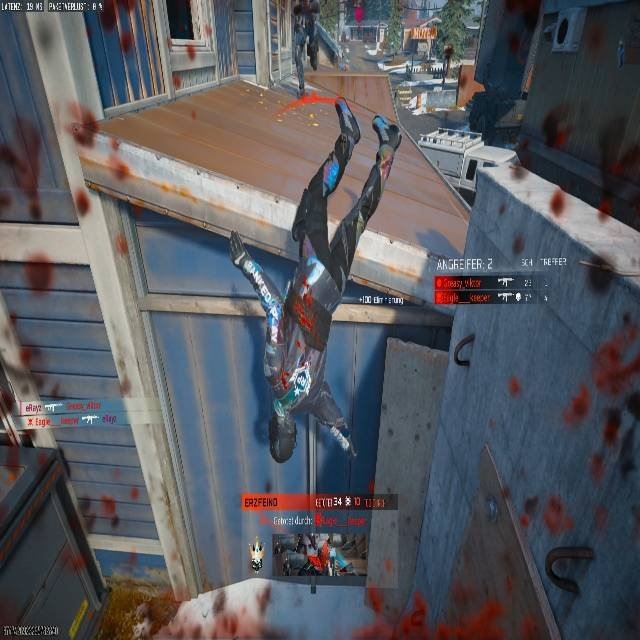head: (418, 14, 434, 33)
player: (402, 16, 456, 114), (293, 0, 326, 70), (271, 533, 313, 577)
